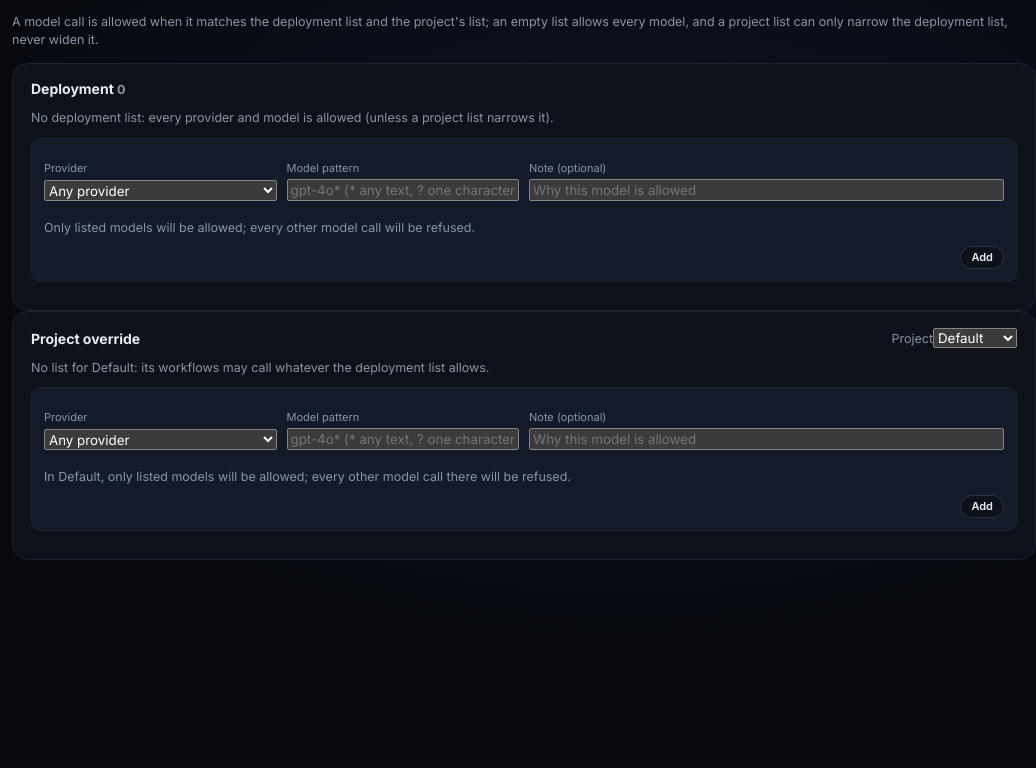
it: Security → Models › shows the API's refusal of an entry
Click the 1st button "Add" at (982, 257), box [960,246,1004,269]
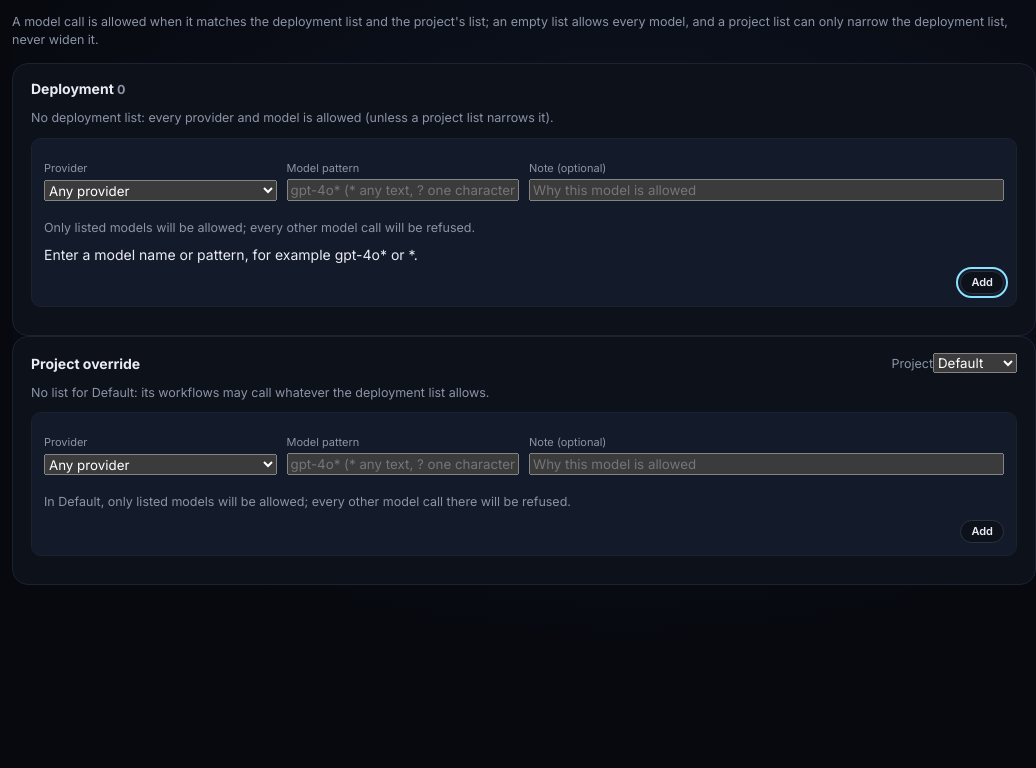
expect the message shows "Enter a model name or pattern": met, box [44,246,418,263]
Type "*" into the 1st field labelled "Model pattern" at (403, 190), box [286,179,519,201]
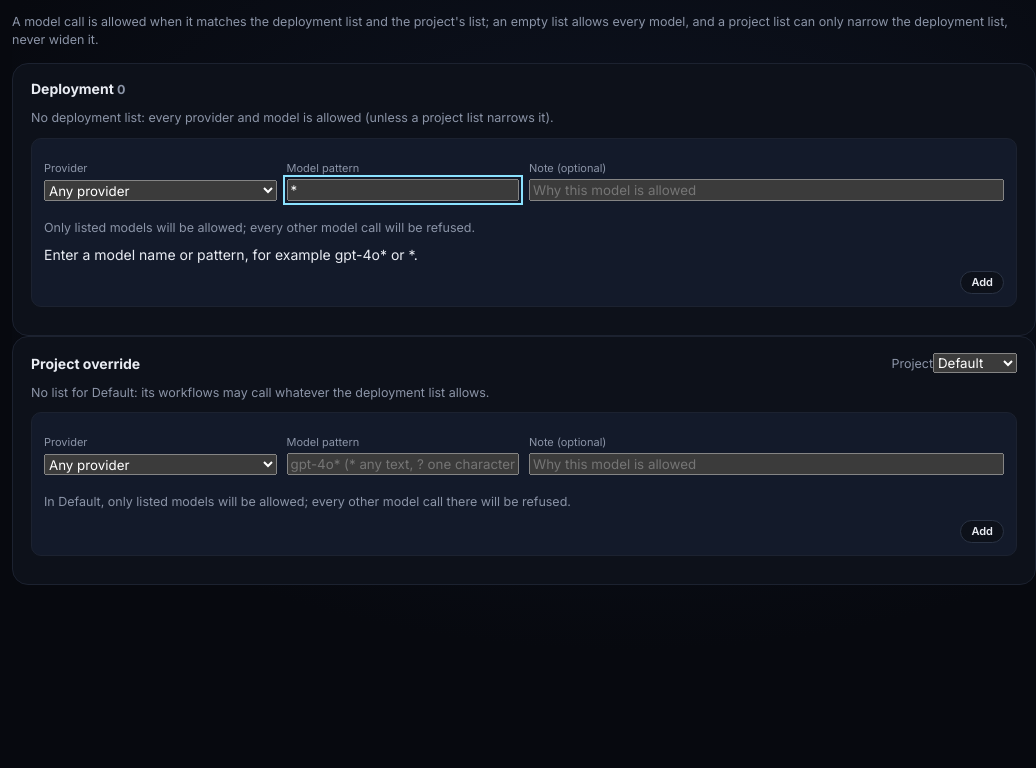
Click the 1st button "Add" at (982, 282), box [960,271,1004,294]
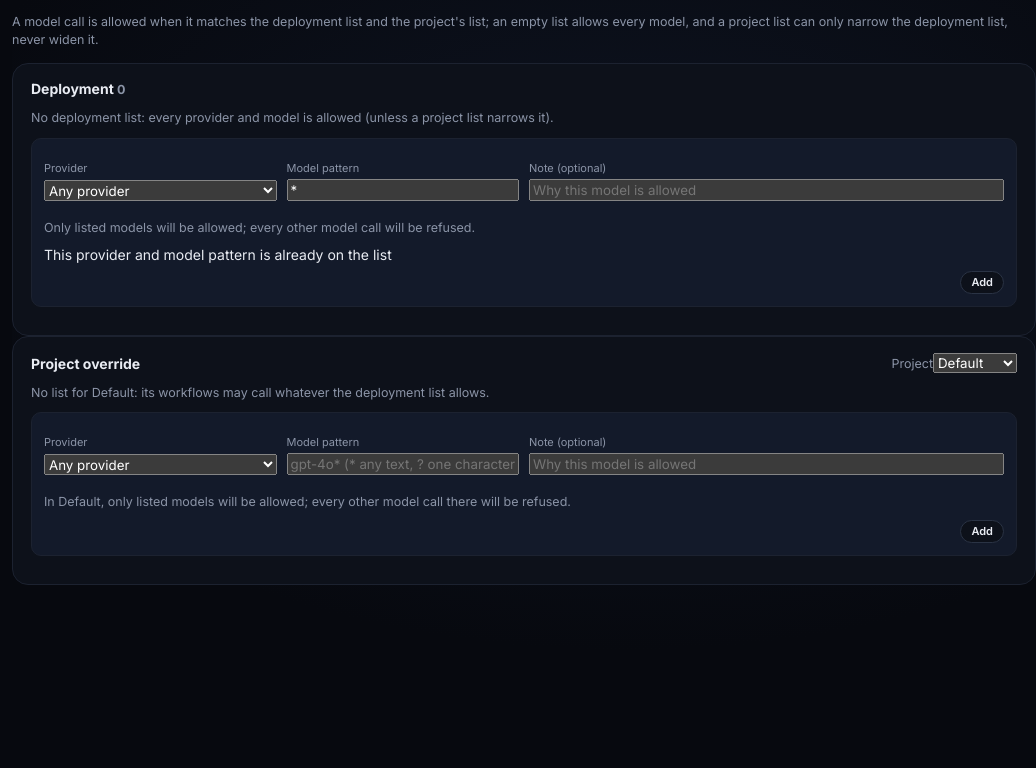
expect the message shows "already on the list": met, box [44,246,392,263]
